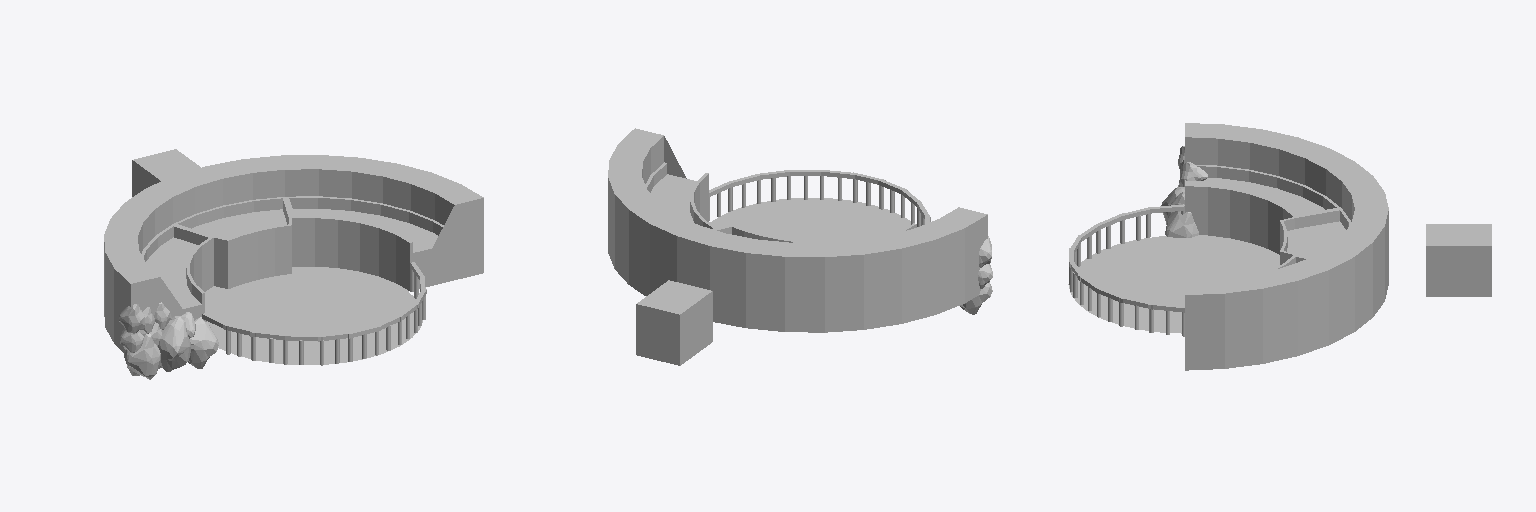
The model's file is arena_demo.obj.
3 renders of one model, left to right at view 1: azimuth 30°, elevation 25°; view 2: azimuth 150°, elevation 25°; view 3: azimuth 270°, elevation 25°, orthographic.
Parts seen in each view (by area): view 1: Circle.008, Cube.034, Icosphere.001, Icosphere.002, Icosphere, Icosphere.016; view 2: Circle.008, Cube.034; view 3: Circle.008, Cube.034, Icosphere.
Boxes of the visible parts, x1,y1,x2,y2 form: Circle.008: [104, 155, 483, 364]; Cube.034: [132, 149, 200, 196]; Icosphere.001: [158, 316, 190, 371]; Icosphere.002: [124, 333, 161, 379]; Icosphere: [188, 317, 218, 368]; Icosphere.016: [119, 304, 145, 333]; Circle.008: [608, 128, 987, 332]; Cube.034: [636, 280, 712, 365]; Circle.008: [1068, 123, 1388, 370]; Cube.034: [1426, 224, 1491, 296]; Icosphere: [1165, 211, 1198, 237].
Size of the model in its own units: 88.36 by 22.85 by 89.62.